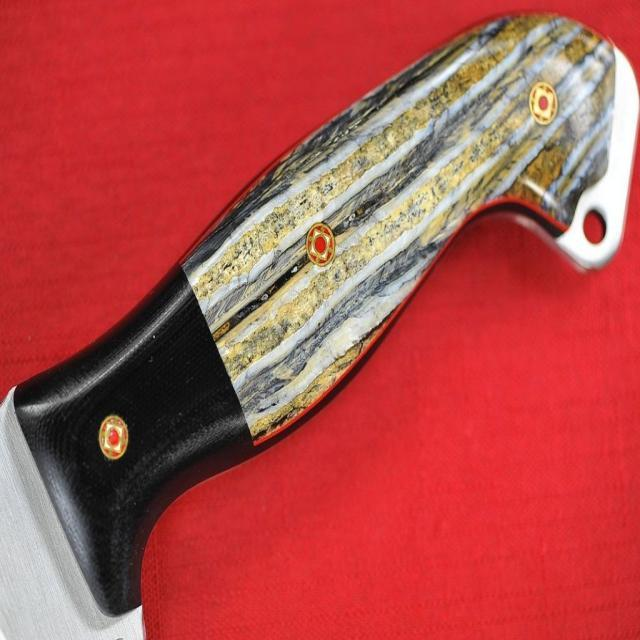Knife: (0, 15, 639, 639)
